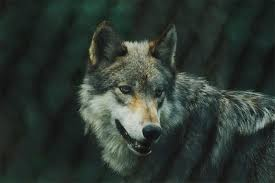Lobo: (74, 12, 222, 165)
